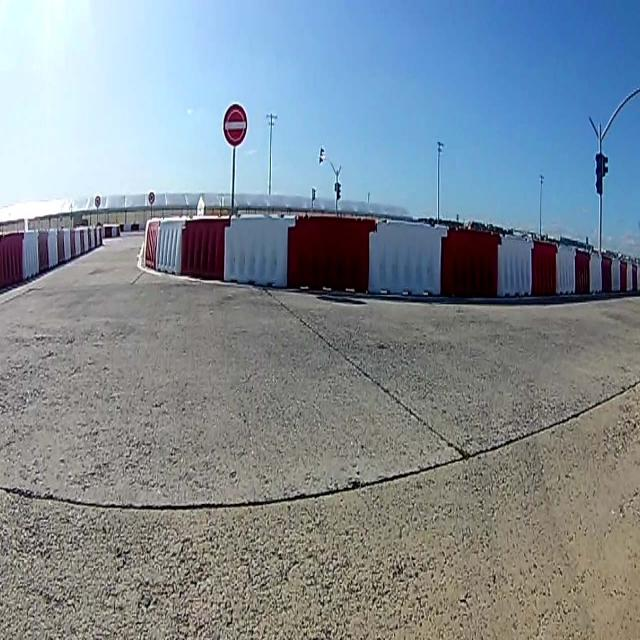girisyok: (224, 105, 247, 143)
